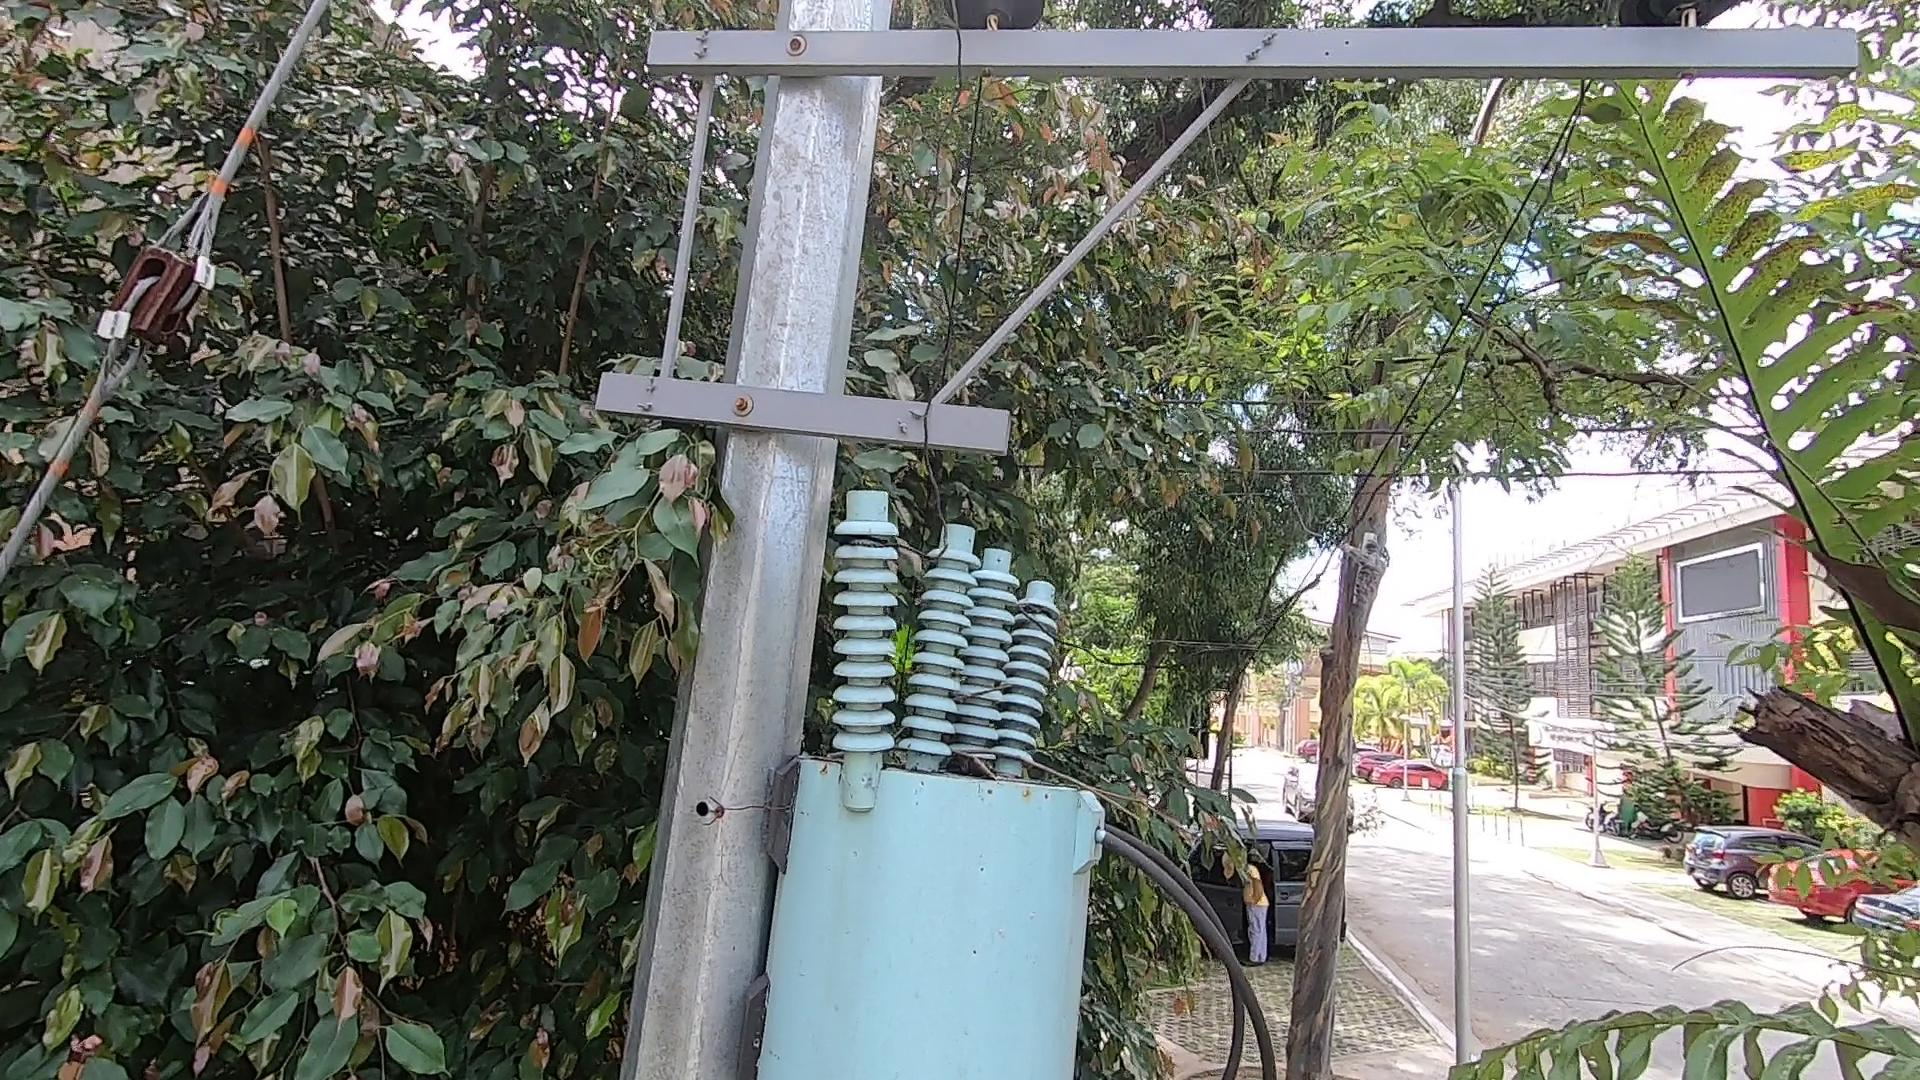leaf: (940, 741, 1004, 793)
tree branch: (866, 717, 1151, 843)
